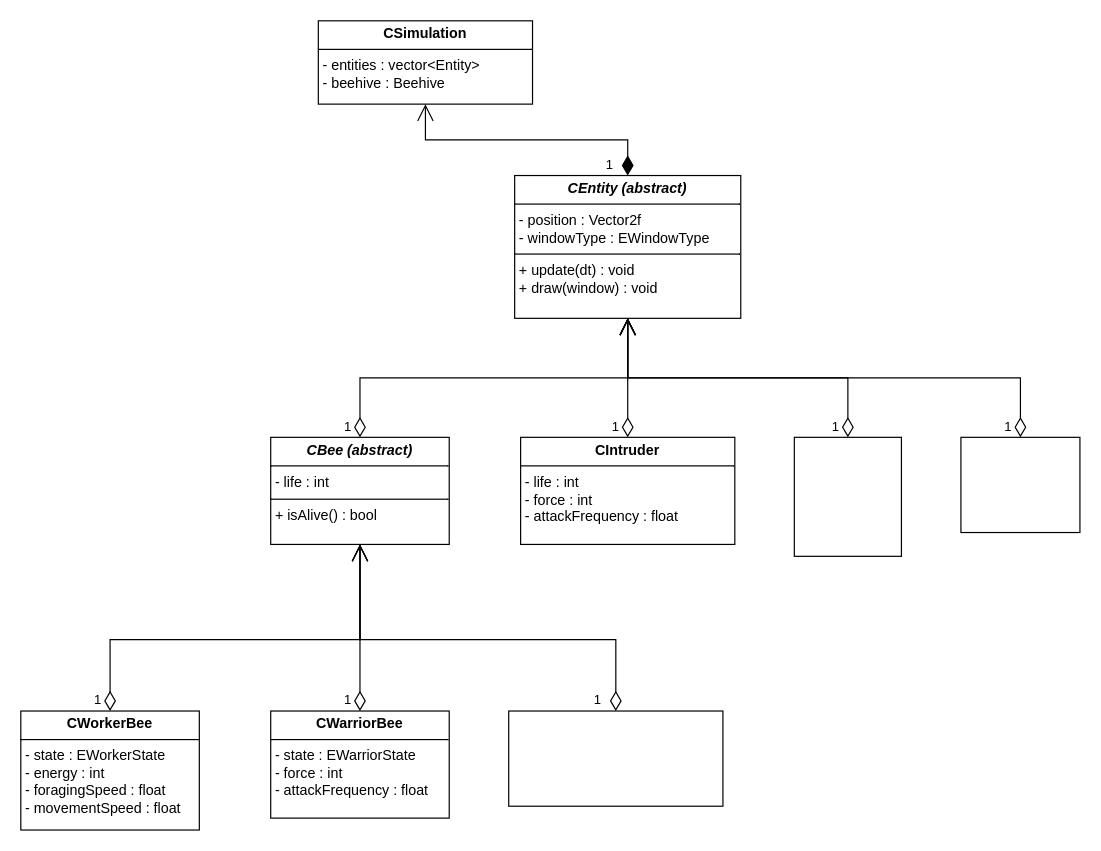
This 1101x851 diagram has some shape labels left out. The shapes that lost their labels are listed below. From the top down, each one's centre as x and y in pixels, then its label:
point (847, 496): CBeehive - bees - nectar - beesMax - nectarMax
point (1020, 484): CFlower - pollen : int - usable : bool
point (615, 758): CQueenBee - reproduction : bool - reproductionFrequency : float
